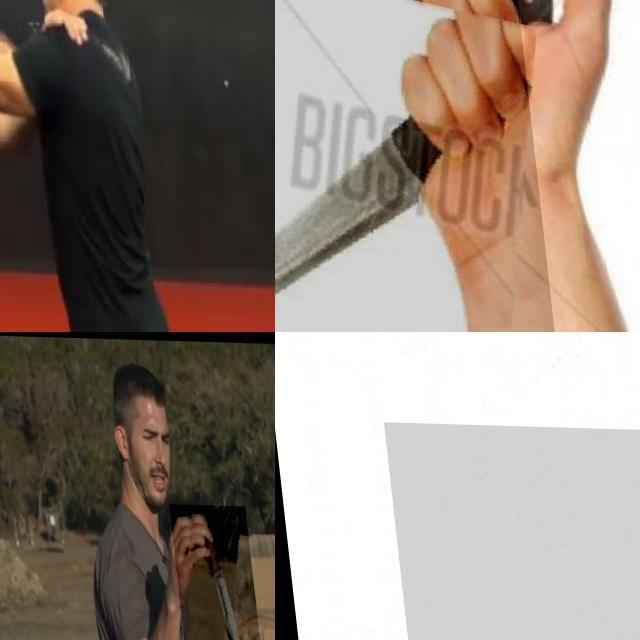-: (275, 0, 548, 332), (381, 421, 640, 640), (165, 502, 256, 640), (0, 0, 46, 43)
